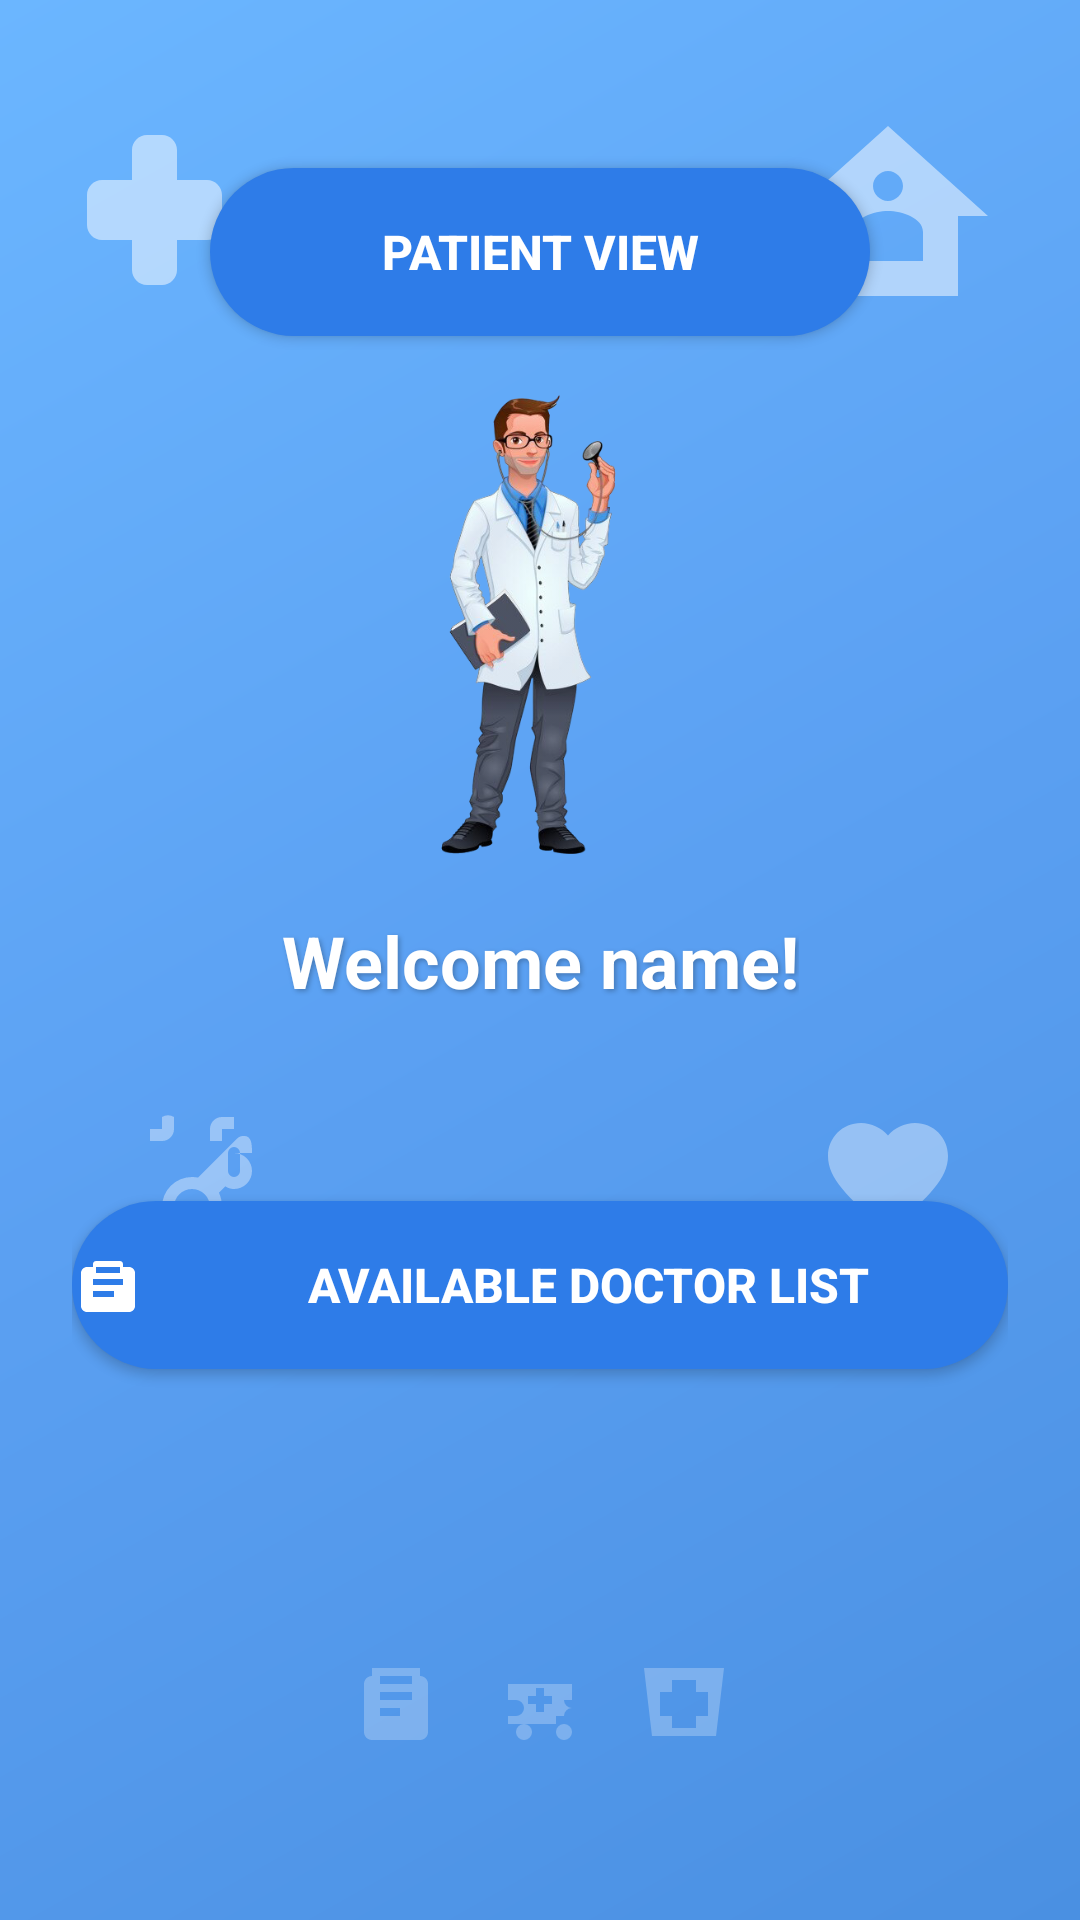

Where to tap for icons on this 1080px×1920px app screen, as point (x, y):
ambulance: point (540, 1712)
first aid: point (684, 1702)
Medical Cross Icon: point (169, 217)
